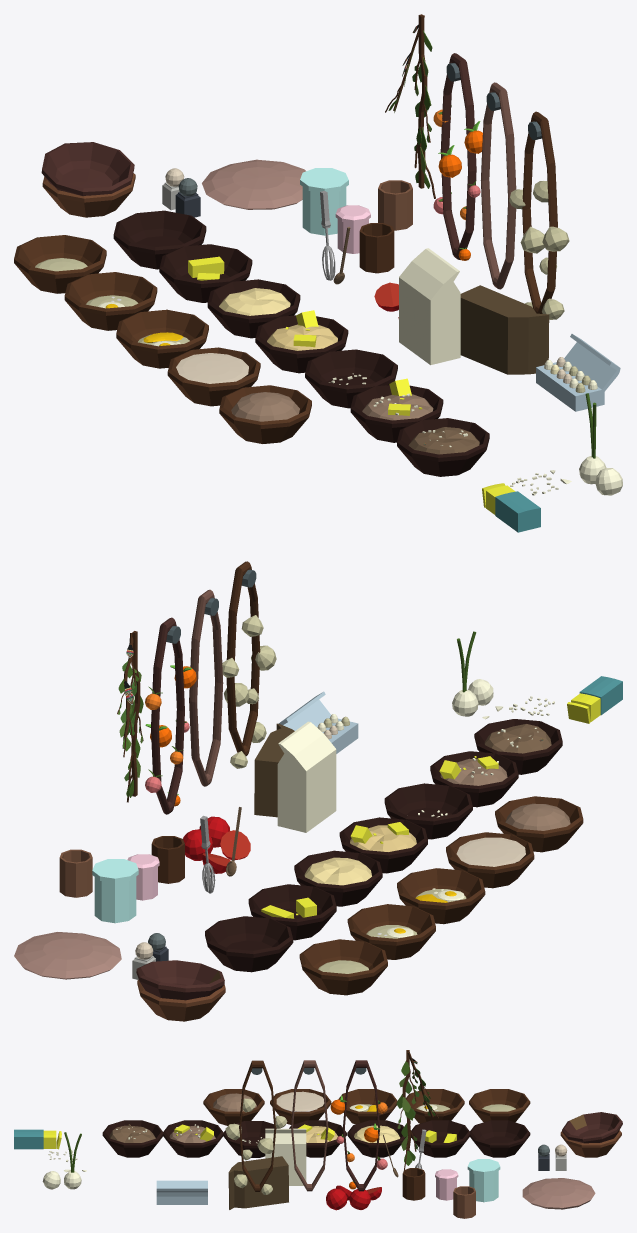
File: miski.fbx
3 views of the same model, one above another, from view 1: azimuth 30°, elevation 25°; view 2: azimuth 150°, elevation 25°; view 3: azimuth 270°, elevation 25° (orthographic). The views are drawn at different scales.
Visible parts, largest first — view 1: Box124, Box123, Sphere009, Sphere073, Sphere065, Sphere069, Torus006, Sphere061, Sphere062, Sphere060, Sphere066, Torus005 (+21 smaller); view 2: Box123, Sphere009, Sphere065, Sphere069, Sphere060, Torus006, Sphere062, Sphere061, Torus005, Sphere073, Sphere066, Torus007 (+22 smaller); view 3: Box124, Sphere009, Sphere065, Box123, Sphere073, Sphere060, Sphere066, Box125, Sphere061, Sphere062, Cylinder001, Sphere071 (+26 smaller).
Boxes of the visible parts, <box> form: Box124: <box>460,285,549,374</box>; Box123: <box>399,248,460,365</box>; Sphere009: <box>202,159,305,209</box>; Sphere073: <box>41,142,134,195</box>; Sphere065: <box>113,210,206,269</box>; Sphere069: <box>305,349,397,408</box>; Torus006: <box>480,82,516,289</box>; Sphere061: <box>64,272,157,330</box>; Sphere062: <box>116,309,208,368</box>; Sphere060: <box>14,235,106,293</box>; Sphere066: <box>159,244,252,302</box>; Torus005: <box>440,53,476,259</box>; Box123: <box>277,721,336,832</box>; Sphere009: <box>14,932,121,979</box>; Sphere065: <box>205,916,293,972</box>; Sphere069: <box>384,783,472,839</box>; Sphere060: <box>299,939,387,995</box>; Torus006: <box>189,589,223,786</box>; Sphere062: <box>397,868,485,924</box>; Sphere061: <box>347,904,435,959</box>; Torus005: <box>151,617,184,814</box>; Sphere073: <box>136,960,224,1000</box>; Sphere066: <box>248,884,336,940</box>; Torus007: <box>226,561,260,756</box>; Box124: <box>228,1156,288,1209</box>; Sphere009: <box>522,1178,595,1209</box>; Sphere065: <box>470,1120,530,1157</box>; Box123: <box>265,1128,306,1185</box>; Sphere073: <box>562,1112,622,1143</box>; Sphere060: <box>469,1089,530,1122</box>; Sphere066: <box>411,1120,469,1157</box>; Box125: <box>156,1180,207,1204</box>; Sphere061: <box>405,1089,464,1123</box>; Sphere062: <box>338,1089,397,1124</box>; Cylinder001: <box>467,1159,500,1202</box>; Sphere071: <box>102,1120,163,1157</box>.
Size of the model in its own units: 314 by 214 by 706.
